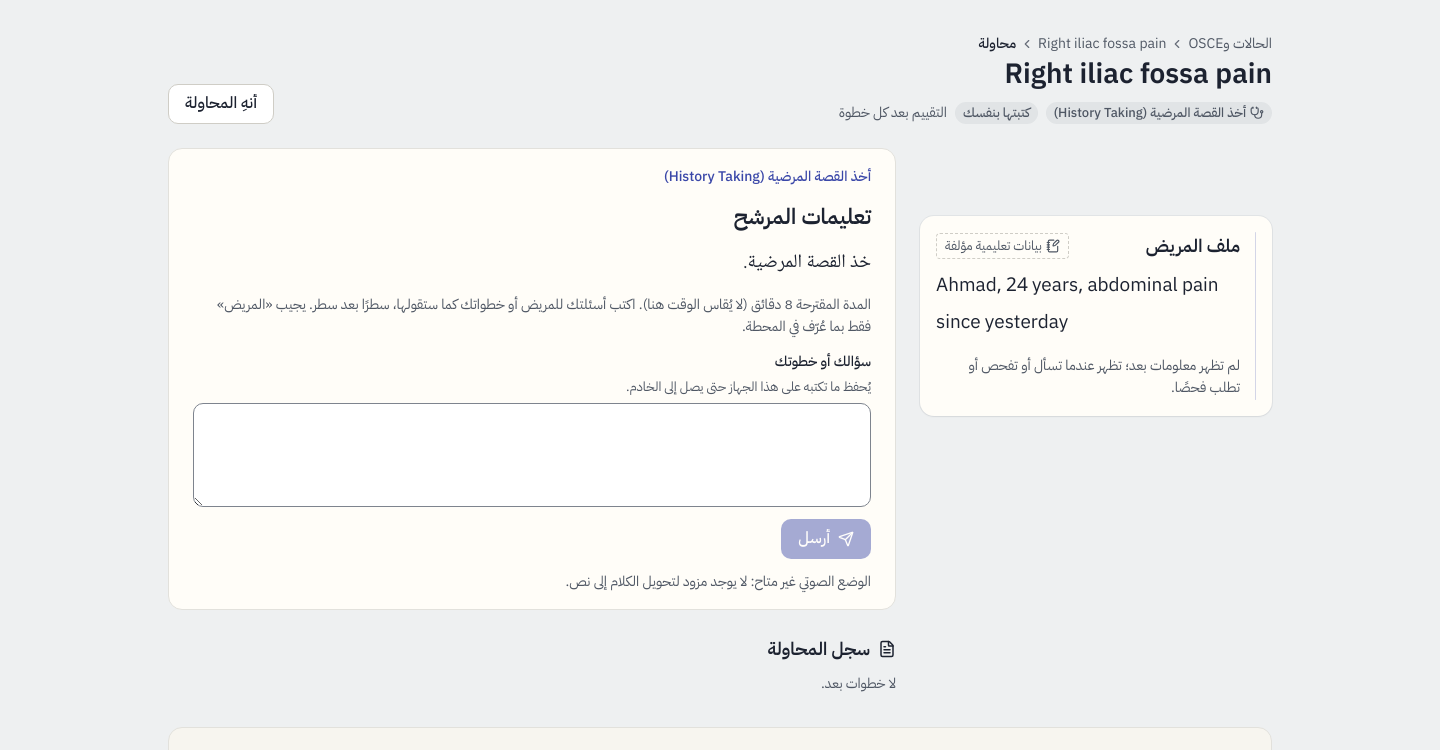
it: case runner › OSCE text: the typed question stays on this device until sent; the patient answers only defined facts
This screenshot has width=1440, height=750.
Type "متى بدأ الألم؟" into the text box labelled "سؤالك أو خطوتك" at (532, 455), box [193, 403, 871, 507]
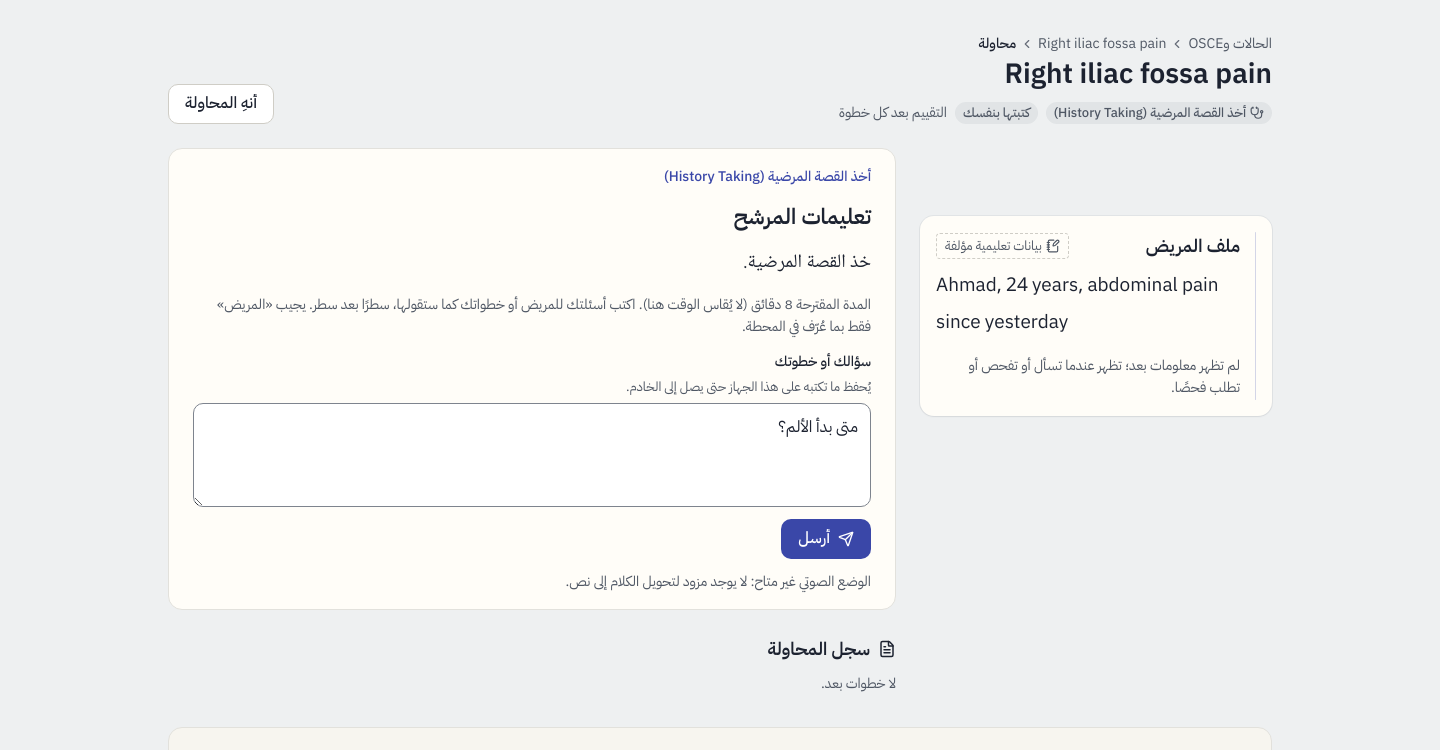
Expected: the text "الوضع الصوتي غير متاح: لا يوجد مزود لتحويل الكلام إلى نص." is shown, [566, 571, 871, 592]
Click the button "أرسل" at (826, 539), box [781, 519, 871, 559]
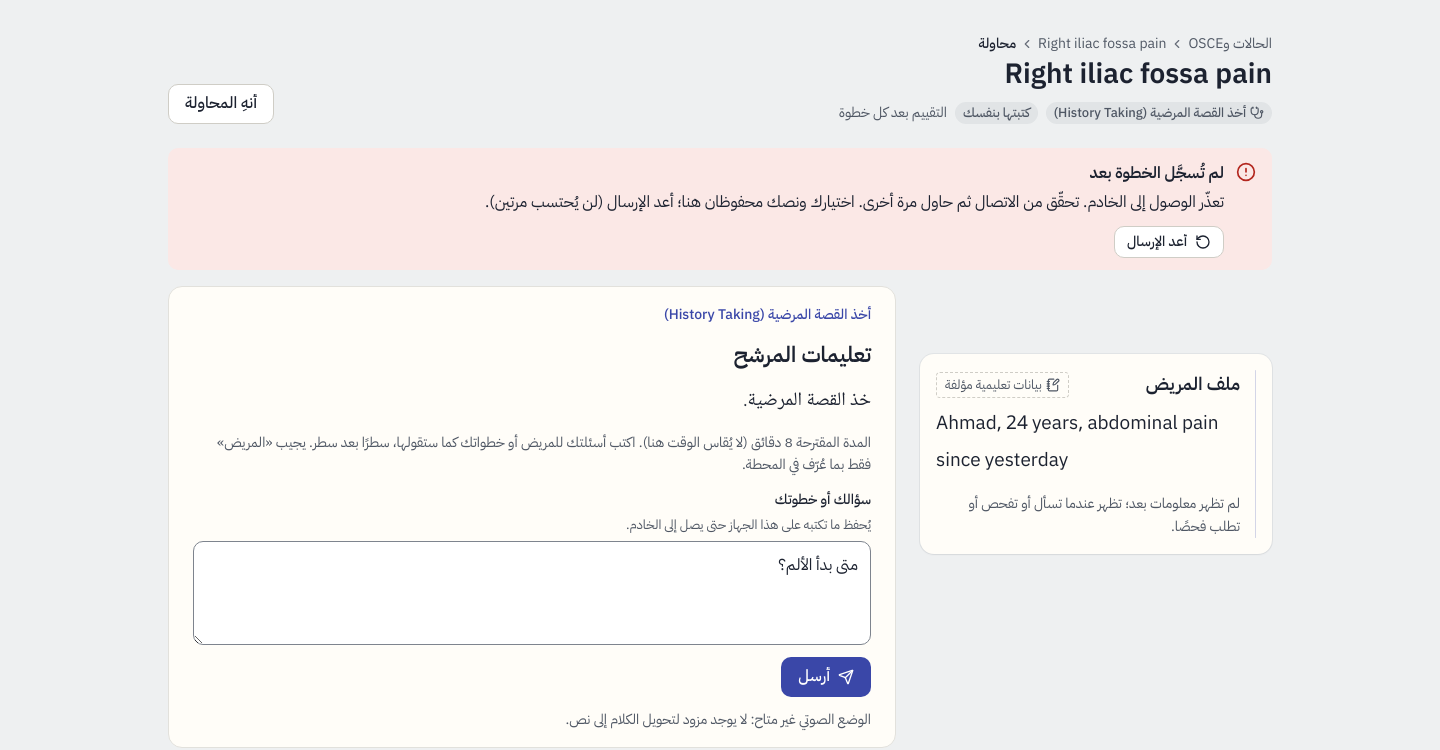
Expected: the text "لم تُسجَّل الخطوة بعد" is shown, [1090, 161, 1224, 185]
Click the button "أرسل" at (826, 677), box [781, 657, 871, 697]
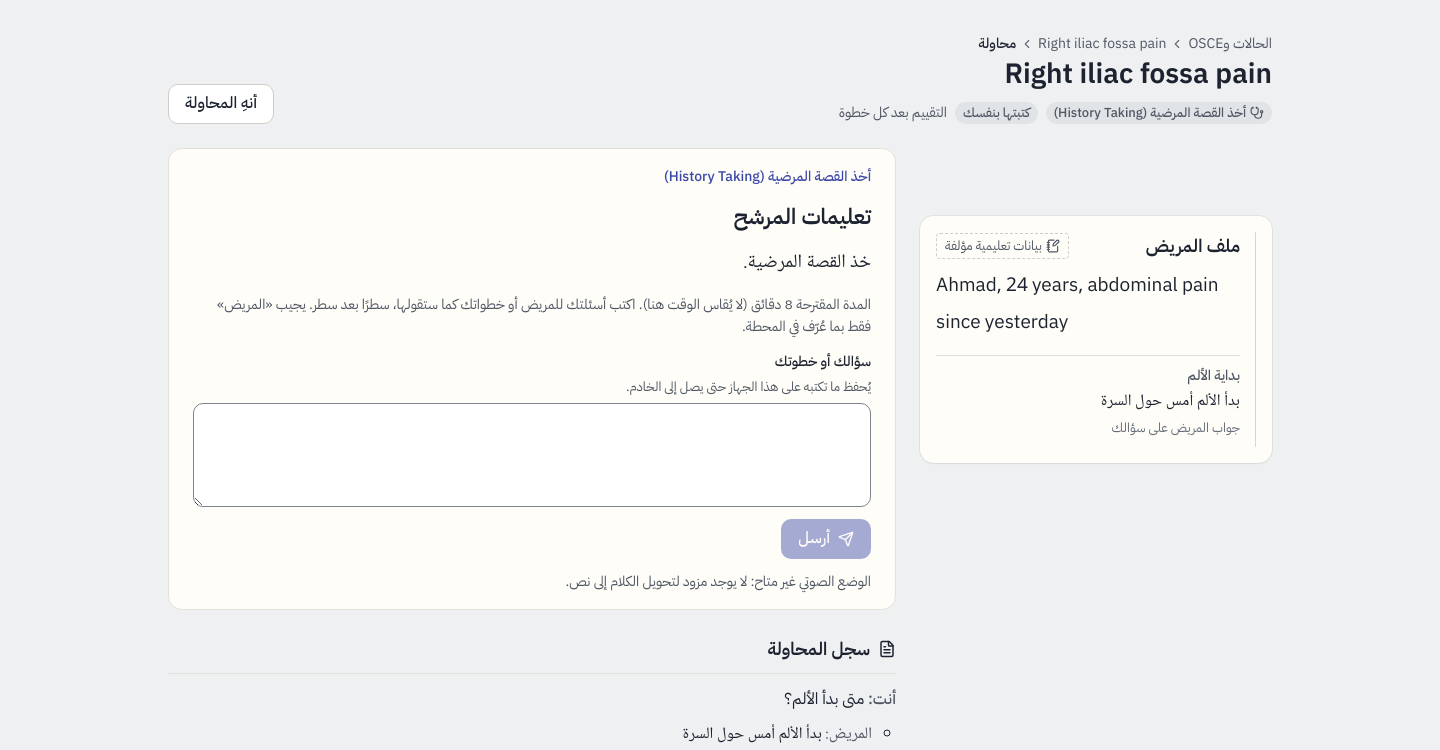
Expected: the text "بدأ الألم أمس حول السرة" next to "المريض:" is shown, [683, 721, 822, 748]
